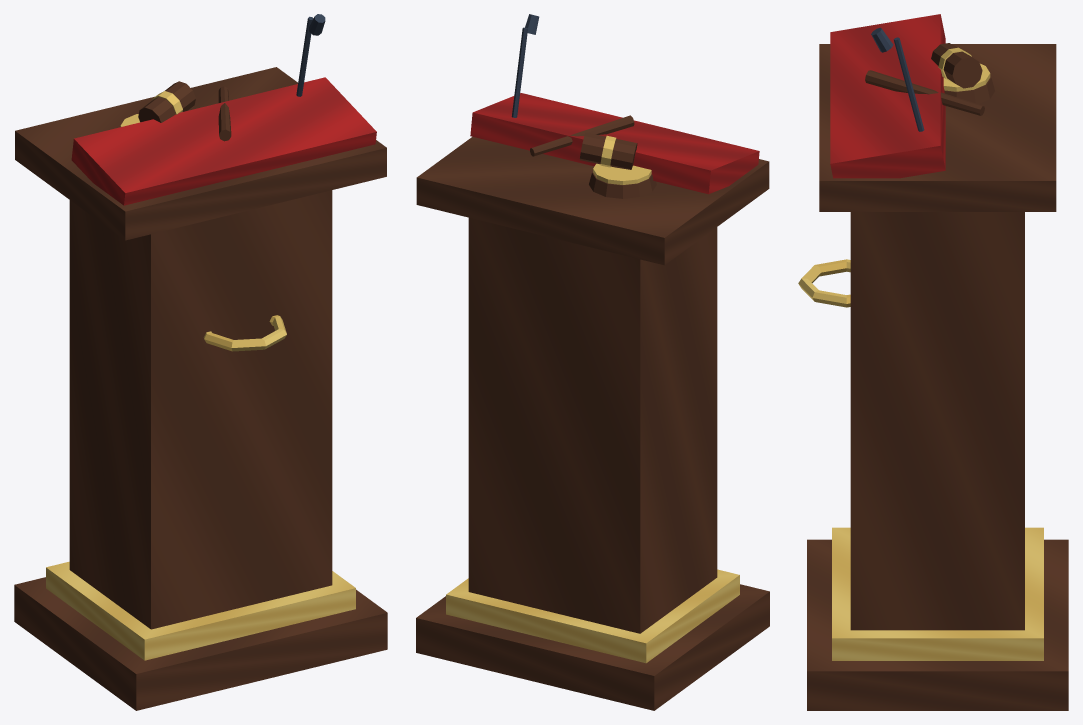
File: courtroom-gavel-podium.glb
3 renders of one model, left to right at view 1: azimuth 30°, elevation 25°; view 2: azimuth 150°, elevation 25°; view 3: azimuth 270°, elevation 25°, orthographic. The views are drawn at different scales.
Visible parts, largest first — view 1: TS_StageProp_courtroom-gavel-podium; view 2: TS_StageProp_courtroom-gavel-podium; view 3: TS_StageProp_courtroom-gavel-podium.
Boxes of the visible parts, bbox=[...] form: TS_StageProp_courtroom-gavel-podium: bbox=[14, 14, 387, 710]; TS_StageProp_courtroom-gavel-podium: bbox=[416, 14, 769, 710]; TS_StageProp_courtroom-gavel-podium: bbox=[798, 14, 1068, 710].
Bounding box in the file's own units: 0.52 × 1.17 × 0.434.
Materials: 1 (1 with a texture image).
